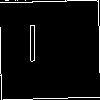I: (25, 24, 40, 72)
